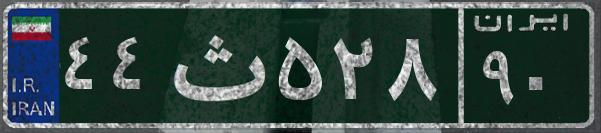0: (525, 38, 570, 115)
2: (330, 28, 385, 110)
4: (57, 26, 110, 107), (110, 28, 158, 105)
5: (273, 28, 330, 110)
8: (385, 28, 445, 110)
9: (475, 38, 525, 113)
ث: (158, 15, 273, 115)
